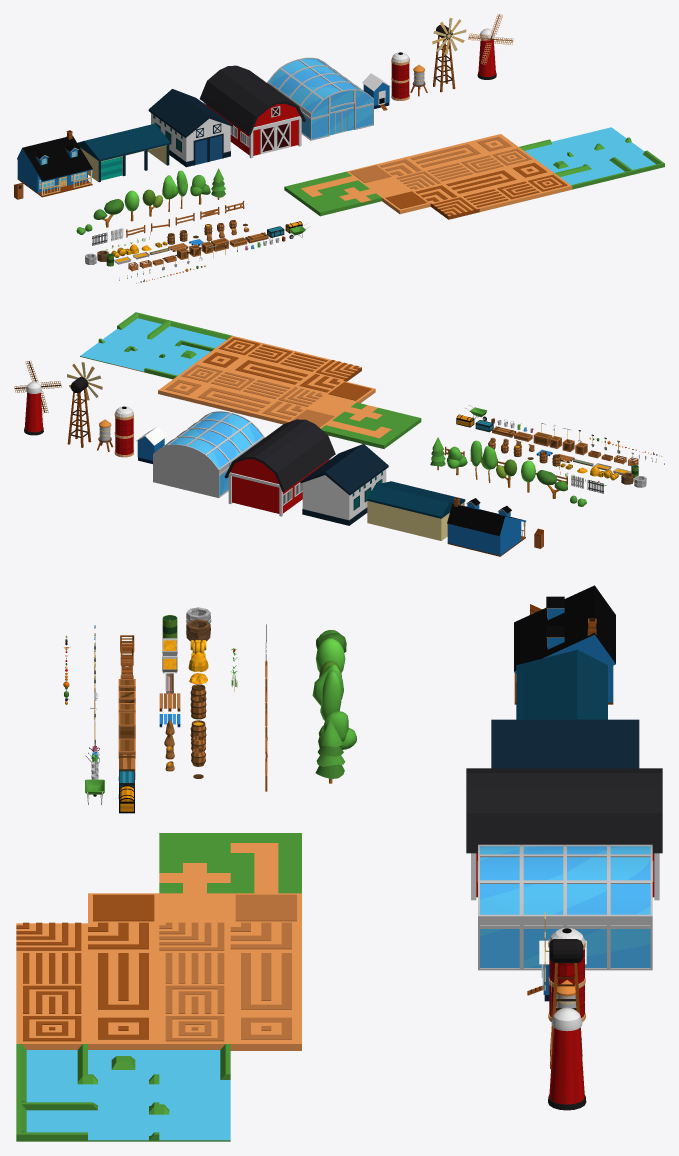
Rendered from Farm_Ranch_Pack_1.0.0.fbx.
The picture shows the model from 3 angles, top to bottom: view 1: azimuth 30°, elevation 25°; view 2: azimuth 150°, elevation 25°; view 3: azimuth 270°, elevation 25°; orthographic projection. The views are drawn at different scales.
Visible parts, largest first — view 1: FRP_Bld_Barn_02, FRP_Bld_GreenMouse, FRP_Bld_Barn_01, FRP_Bld_FarmerHouse, FRP_Bld_StoreBuilding_01, FRP_Bld_Silo_01, FRP_Bld_FarmMill_02_p1, FRP_Env_FarmLand_03_Watered, FRP_Env_FarmLand_02_Watered, FRP_Env_GrassLand_Plain, FRP_Bld_FarmMill_01_p1, FRP_Env_FarmLand_05_Watered (+32 smaller); view 2: FRP_Bld_Barn_02, FRP_Bld_GreenMouse, FRP_Bld_Barn_01, FRP_Bld_StoreBuilding_01, FRP_Bld_FarmerHouse, FRP_Bld_Silo_01, FRP_Bld_FarmMill_01_p1, FRP_Bld_FarmMill_02_p1, FRP_Env_GrassLand_Cornor, FRP_Env_FarmLand_06, FRP_Env_FarmLand_10, FRP_Env_FarmLand_04 (+32 smaller); view 3: FRP_Bld_GreenMouse, FRP_Bld_Barn_02, FRP_Bld_Barn_01, FRP_Bld_FarmerHouse, FRP_Bld_StoreBuilding_01, FRP_Bld_FarmMill_02_p1, FRP_Env_FarmLand_10, FRP_Env_FarmLand_10_Watered, FRP_Env_FarmLand_09, FRP_Env_FarmLand_09_Watered, FRP_Env_WaterLand_08, FRP_Env_WaterLand_09 (+29 smaller).
Boxes of the visible parts, x1,y1,x2,y2 form: FRP_Bld_Barn_02: [199, 65, 305, 158]; FRP_Bld_GreenMouse: [267, 57, 373, 140]; FRP_Bld_Barn_01: [148, 89, 232, 167]; FRP_Bld_FarmerHouse: [17, 130, 92, 197]; FRP_Bld_StoreBuilding_01: [77, 123, 170, 182]; FRP_Bld_Silo_01: [391, 52, 409, 100]; FRP_Bld_FarmMill_02_p1: [477, 28, 496, 79]; FRP_Env_FarmLand_03_Watered: [430, 195, 479, 219]; FRP_Env_FarmLand_02_Watered: [382, 190, 430, 214]; FRP_Env_GrassLand_Plain: [302, 192, 350, 216]; FRP_Bld_FarmMill_01_p1: [433, 25, 455, 92]; FRP_Env_FarmLand_05_Watered: [462, 188, 510, 211]; FRP_Bld_Barn_02: [224, 419, 335, 516]; FRP_Bld_GreenMouse: [153, 411, 264, 497]; FRP_Bld_Barn_01: [300, 444, 388, 525]; FRP_Bld_StoreBuilding_01: [367, 481, 465, 540]; FRP_Bld_FarmerHouse: [447, 497, 525, 556]; FRP_Bld_Silo_01: [114, 406, 133, 457]; FRP_Bld_FarmMill_01_p1: [67, 377, 91, 447]; FRP_Bld_FarmMill_02_p1: [24, 381, 43, 435]; FRP_Env_GrassLand_Cornor: [352, 424, 402, 448]; FRP_Env_FarmLand_06: [222, 392, 272, 417]; FRP_Env_FarmLand_10: [158, 377, 208, 401]; FRP_Env_FarmLand_04: [255, 400, 305, 424]; FRP_Bld_GreenMouse: [478, 844, 652, 970]; FRP_Bld_Barn_02: [466, 768, 662, 900]; FRP_Bld_Barn_01: [491, 719, 639, 768]; FRP_Bld_FarmerHouse: [514, 585, 615, 704]; FRP_Bld_StoreBuilding_01: [516, 649, 607, 719]; FRP_Bld_FarmMill_02_p1: [548, 1007, 586, 1110]; FRP_Env_FarmLand_10: [230, 1014, 301, 1050]; FRP_Env_FarmLand_10_Watered: [88, 1014, 159, 1049]; FRP_Env_FarmLand_09: [159, 1014, 230, 1049]; FRP_Env_FarmLand_09_Watered: [16, 1014, 87, 1049]; FRP_Env_WaterLand_08: [88, 1104, 159, 1141]; FRP_Env_WaterLand_09: [16, 1104, 87, 1141].
Bounding box in the file's own units: 8635 × 1138 × 4525.
